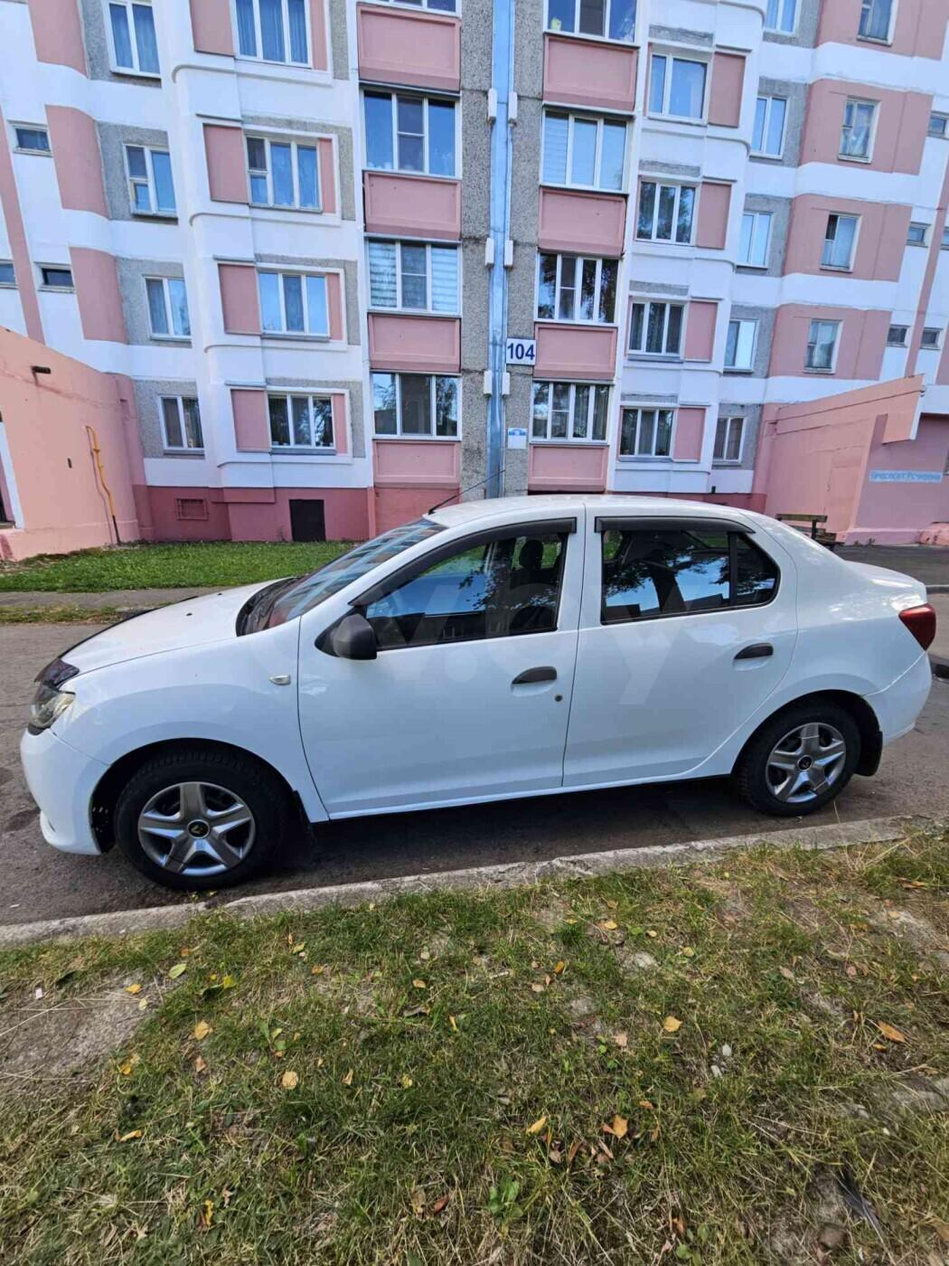Logan_2013-2018: (9, 490, 931, 906)
